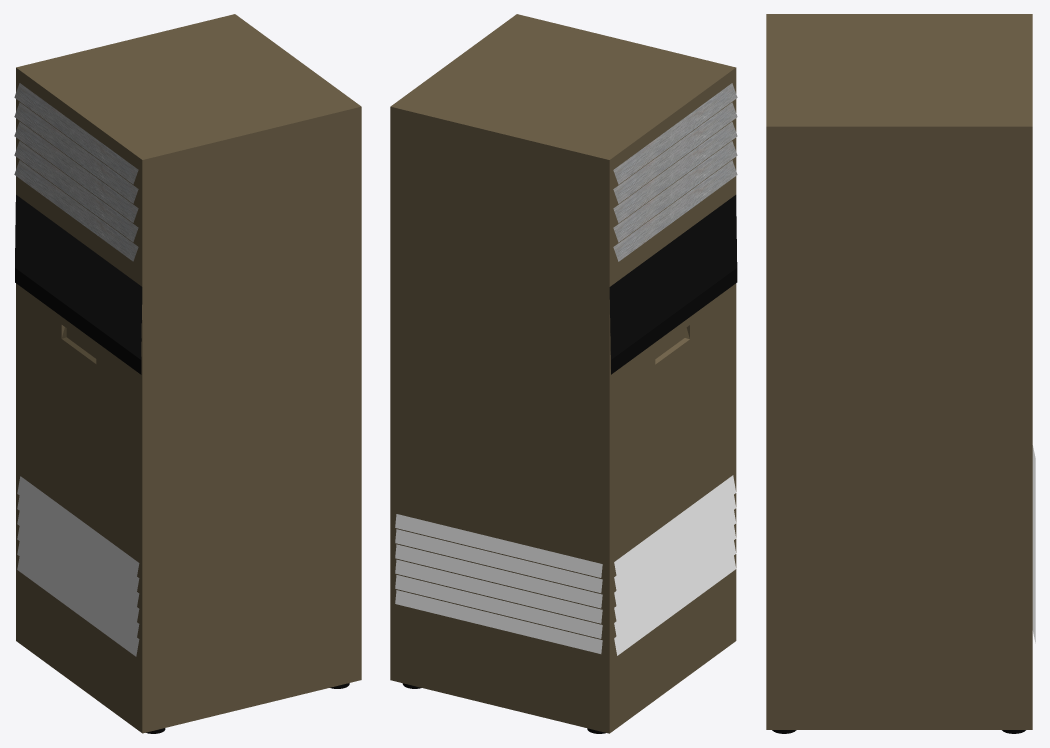
Rendered from 14_floor_osush_big.FBX.
3 renders of one model, left to right at view 1: azimuth 30°, elevation 25°; view 2: azimuth 150°, elevation 25°; view 3: azimuth 270°, elevation 25°, orthographic. The views are drawn at different scales.
Visible parts, largest first — view 1: Box002, Plane021, Plane001, Plane003, Plane005, Plane002, Plane004, Plane023, Plane022, Plane024, Plane025, Plane026; view 2: Box002, Plane018, Plane017, Plane016, Plane007, Plane020, Plane019, Plane021, Plane001, Plane002, Plane003, Plane005 (+6 smaller); view 3: Box002.
Part boxes in pixels (x1,y1,x2,y2): Box002: (15,14,361,733); Plane021: (17,476,139,580); Plane001: (14,83,138,184); Plane003: (14,121,138,222); Plane005: (14,160,138,261); Plane002: (14,102,138,203); Plane004: (14,141,138,242); Plane023: (17,541,139,641); Plane022: (17,557,139,656); Plane024: (17,526,139,625); Plane025: (17,511,139,610); Plane026: (17,496,139,595); Box002: (390,14,737,733); Plane018: (395,559,602,623); Plane017: (395,544,602,608); Plane016: (395,529,602,593); Plane007: (395,514,602,577); Plane020: (395,590,602,653); Plane019: (395,575,602,638); Plane021: (614,475,736,579); Plane001: (613,83,737,184); Plane002: (613,102,737,203); Plane003: (613,122,737,223); Plane005: (613,160,737,261); Box002: (766,14,1032,729).
Size of the model in its own units: 1024 by 2528 by 1011.
Materials: 4 (1 with a texture image).
